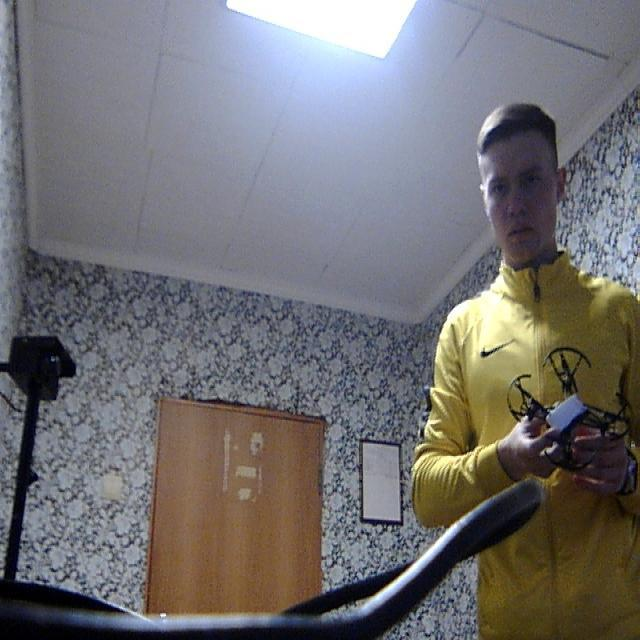drone: (502, 335, 628, 483)
